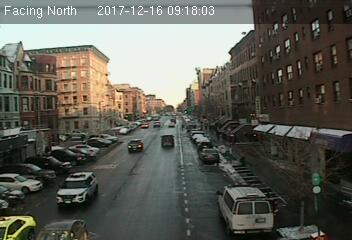car: (199, 148, 219, 163), (127, 138, 142, 151), (159, 135, 175, 147)
police: (217, 183, 278, 237), (55, 171, 99, 214)
